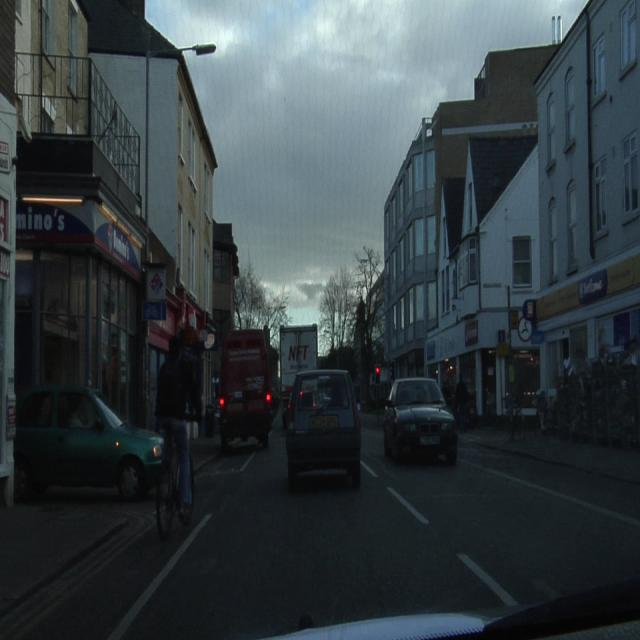Bicyclist: (154, 328, 194, 538), (155, 330, 193, 538)
Building: (15, 0, 238, 426), (383, 46, 553, 419), (533, 0, 639, 441)
Car: (14, 389, 165, 499), (284, 371, 361, 490), (385, 378, 457, 462)
Road: (2, 414, 639, 633)
Tree: (320, 245, 381, 364), (235, 262, 290, 348)
Truck_Bus: (219, 328, 275, 446)
